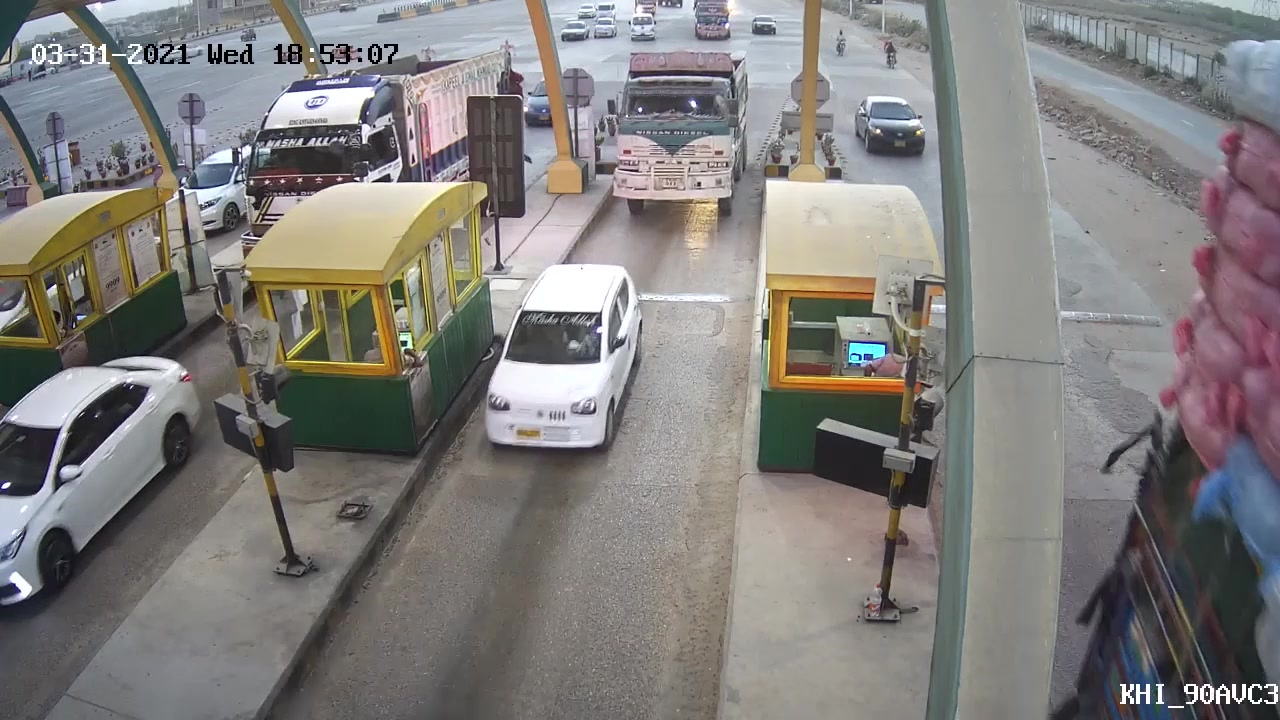F1: (481, 265, 644, 456)
F5: (605, 39, 750, 219)
